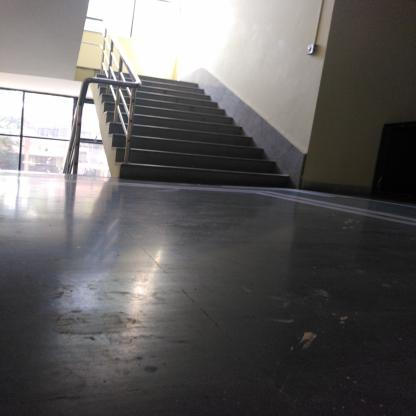stairs: (144, 81, 201, 186)
